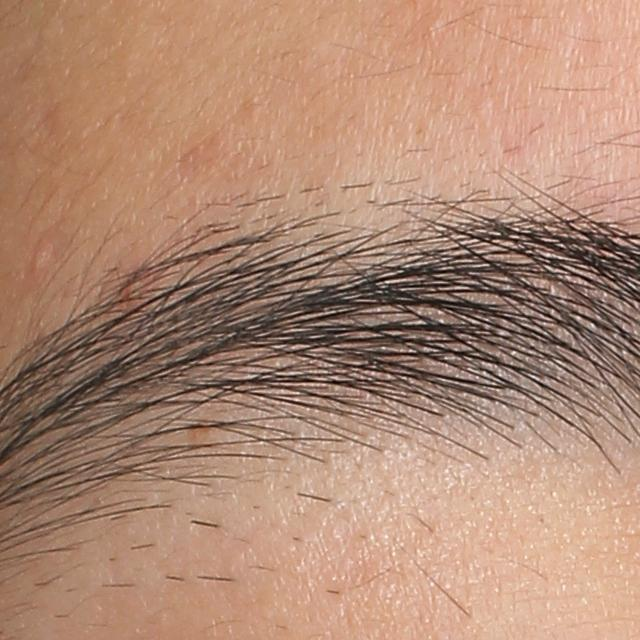papule: (27, 230, 59, 283)
